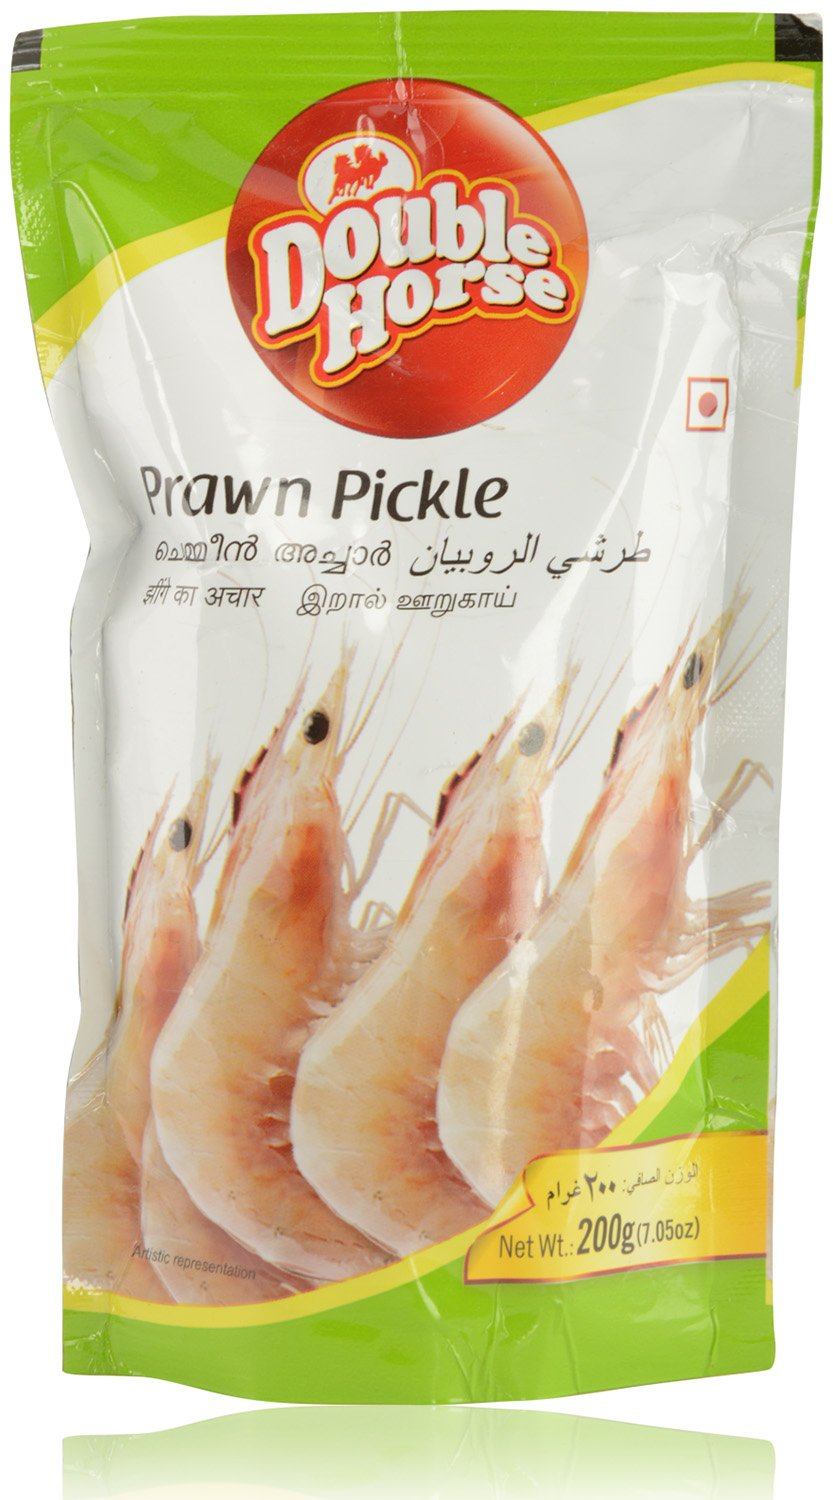nonveg_red: (683, 374, 731, 432)
